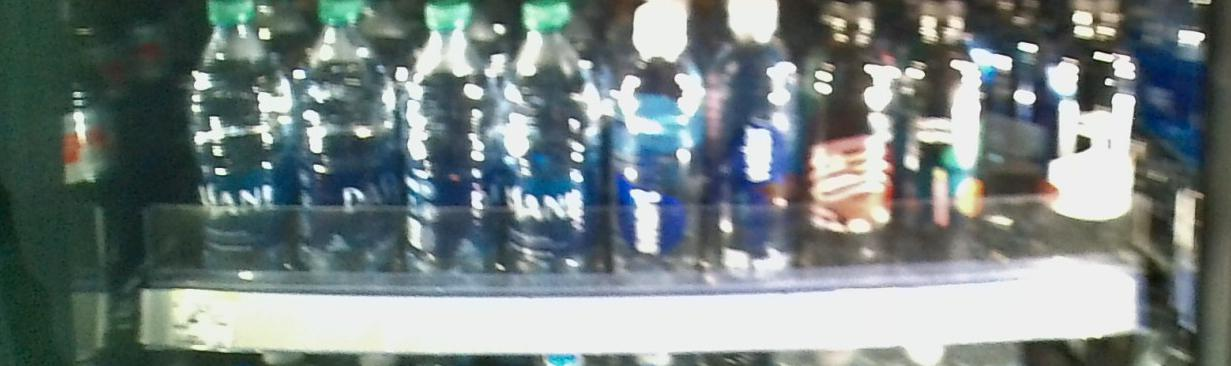bottle: (187, 3, 295, 282), (503, 4, 608, 290), (302, 2, 400, 285), (405, 4, 497, 285), (614, 7, 707, 283), (803, 7, 895, 272), (902, 4, 987, 284), (712, 1, 794, 280)
